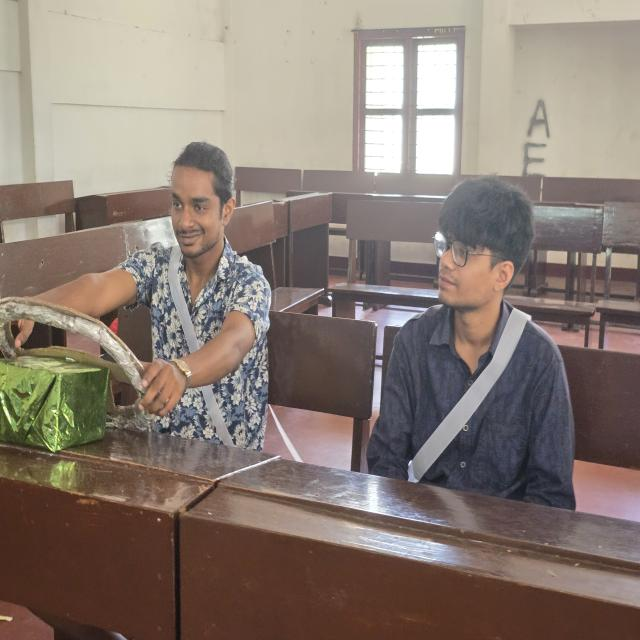seatbelt: (401, 307, 530, 488), (152, 238, 258, 458)
